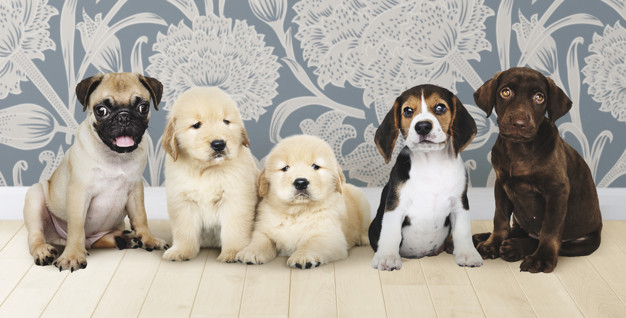dog: (17, 68, 162, 263), (471, 65, 609, 266), (361, 70, 487, 266), (157, 81, 254, 257), (250, 131, 372, 265)
